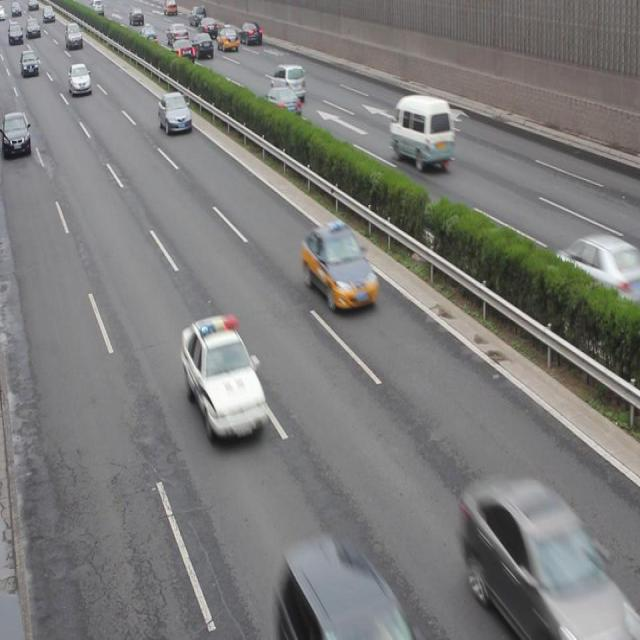car: (463, 476, 615, 640), (180, 312, 268, 445), (302, 222, 377, 315), (552, 232, 632, 305), (157, 91, 192, 137), (263, 84, 300, 122), (4, 111, 32, 159), (270, 62, 304, 99)
truck: (388, 94, 456, 169)
